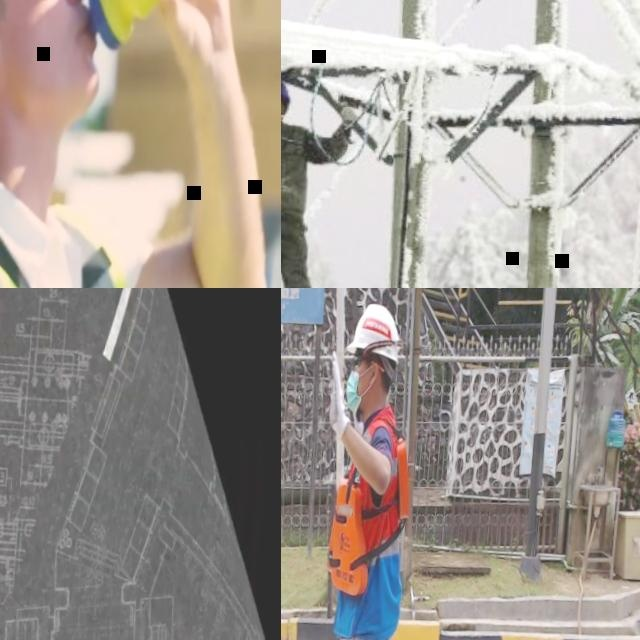Hardhat: (344, 300, 406, 366), (281, 73, 294, 109)
Mask: (343, 363, 375, 415)
NO-Mask: (0, 0, 106, 128)
NO-Safety Vest: (281, 122, 312, 218)
Person: (0, 0, 281, 288), (281, 293, 432, 640), (281, 65, 370, 288)
Safety Vest: (0, 172, 153, 288), (320, 427, 417, 601)
